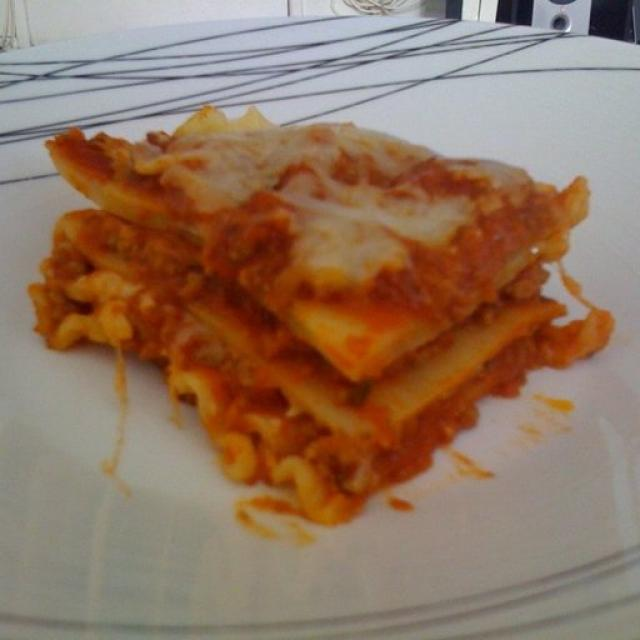Lasagna: (2, 98, 630, 538)
